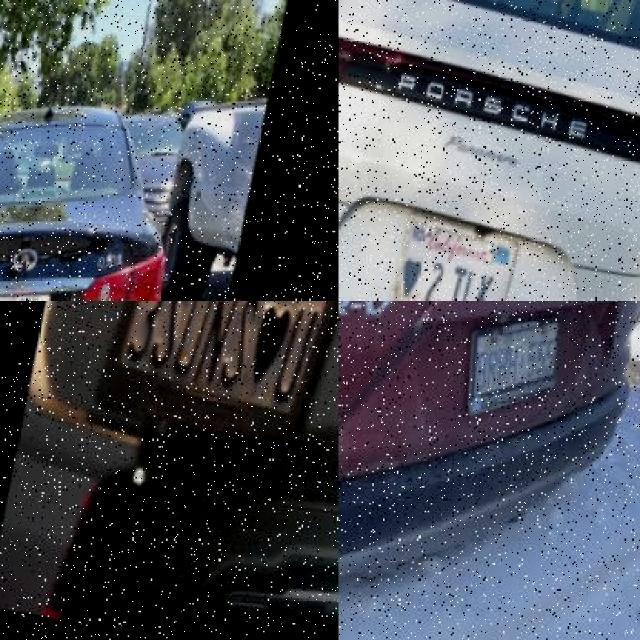licenseplate: (84, 300, 338, 466), (380, 208, 520, 300), (466, 321, 561, 423)
